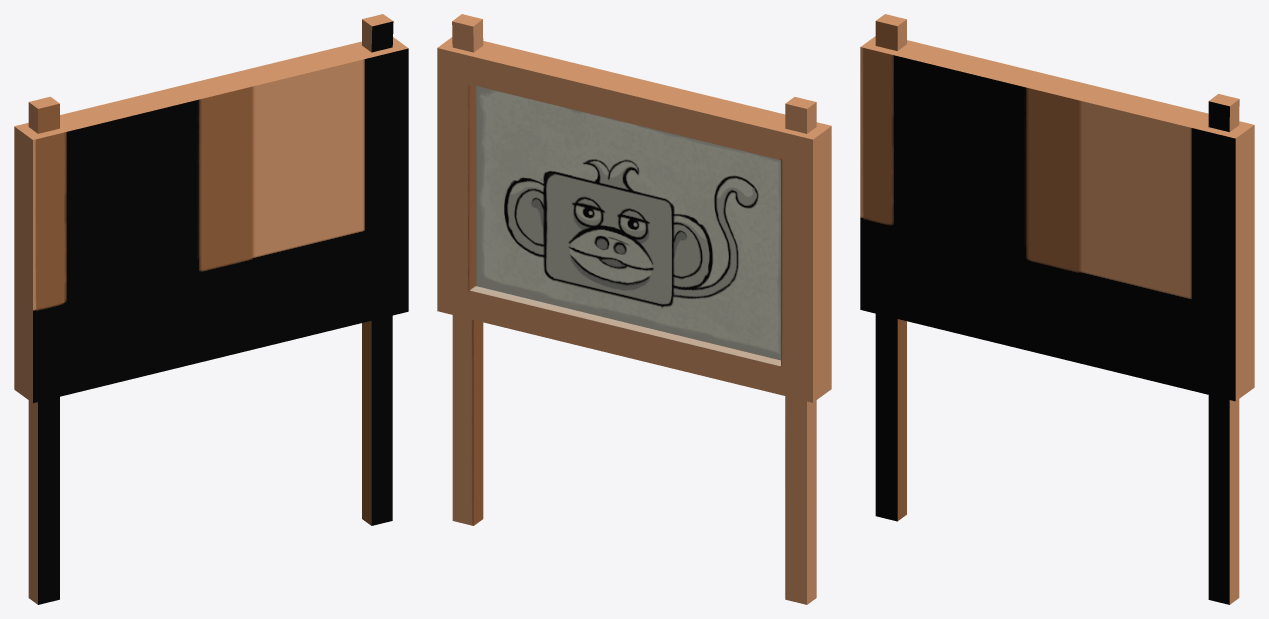
The model's file is SignPost.fbx.
3 views of the same model, side by side, from view 1: azimuth 30°, elevation 25°; view 2: azimuth 150°, elevation 25°; view 3: azimuth 330°, elevation 25° (orthographic).
Parts seen in each view (by area): view 1: pCube1; view 2: pCube1; view 3: pCube1.
Part boxes in pixels (x1=…): pCube1: x1=14, y1=14, x2=408, y2=604; pCube1: x1=437, y1=14, x2=831, y2=604; pCube1: x1=860, y1=14, x2=1254, y2=604.
Bounding box in the file's own units: 31.18 × 39.61 × 2.71.
